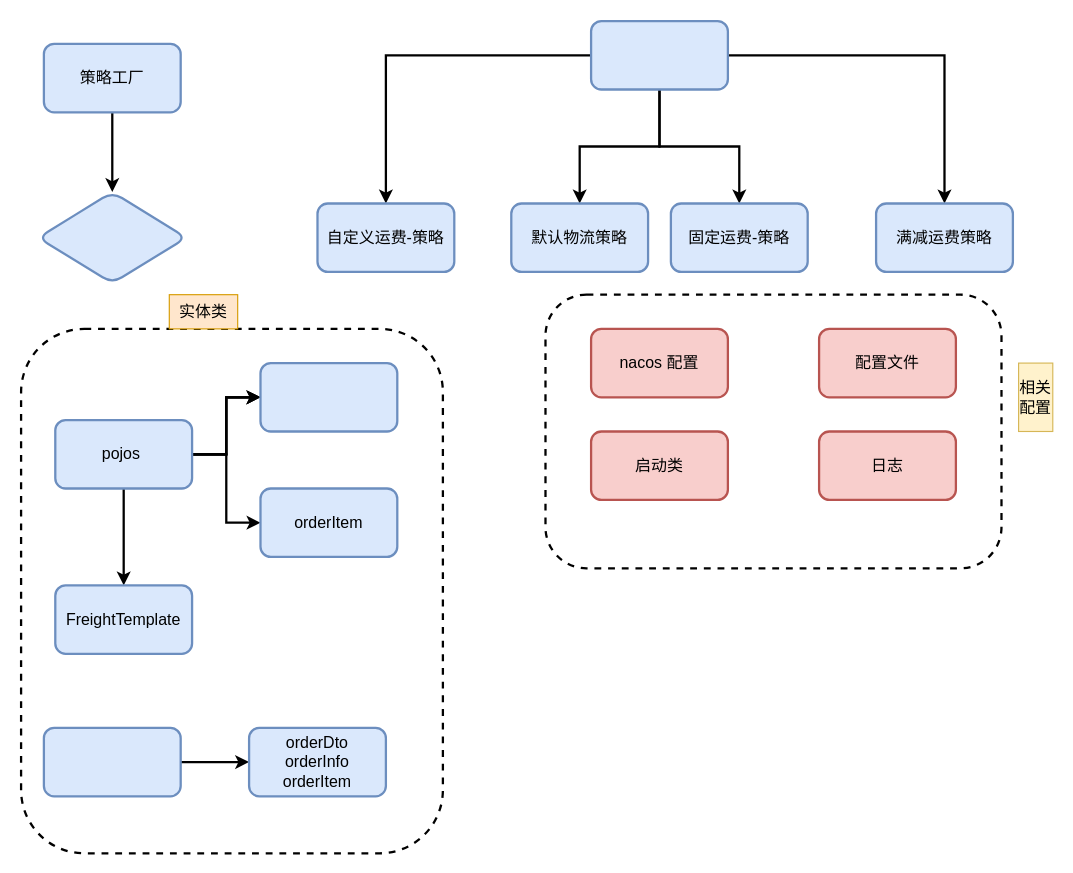
Image size: 1073x873. Some labels were removed from this diagram. The shapes that lost their labels are listed below. From the top down, each one's box as (x1, y1, x2, y2) in pixels, then its label:
(589, 19, 728, 90): 策略基类（接口） 方法
(36, 190, 187, 284): 生产各种策略 if if else
(259, 361, 398, 432): orderInfo
(42, 726, 181, 797): dtos
